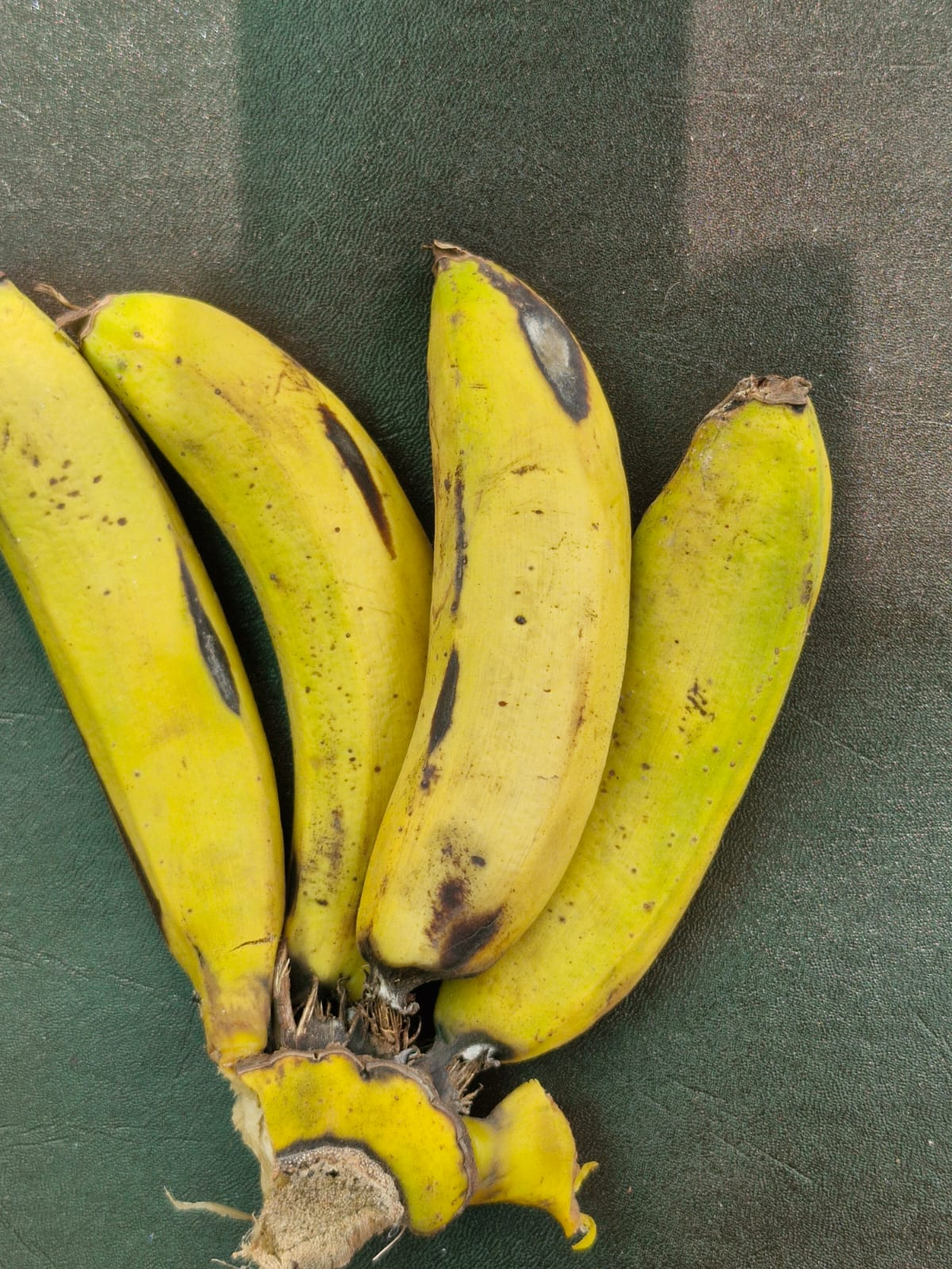banana: (137, 234, 823, 998)
